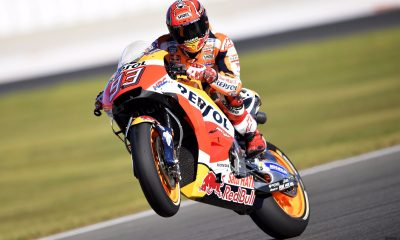helmet: (123, 1, 230, 199)
